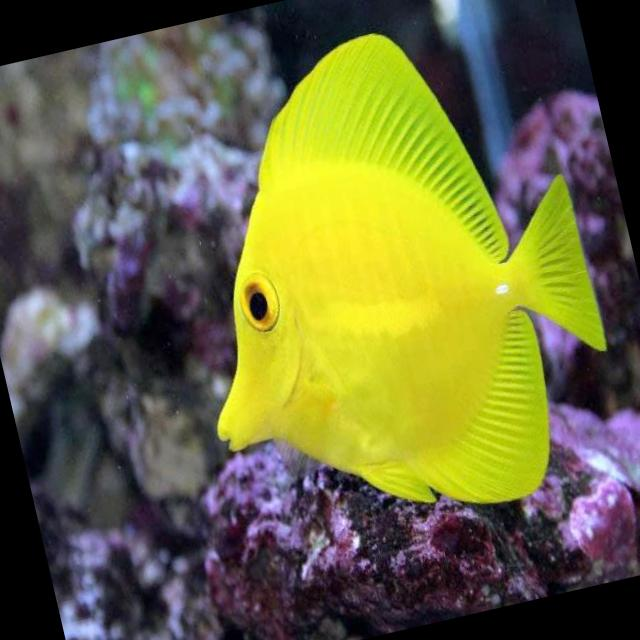TangFish: (127, 0, 640, 565)
